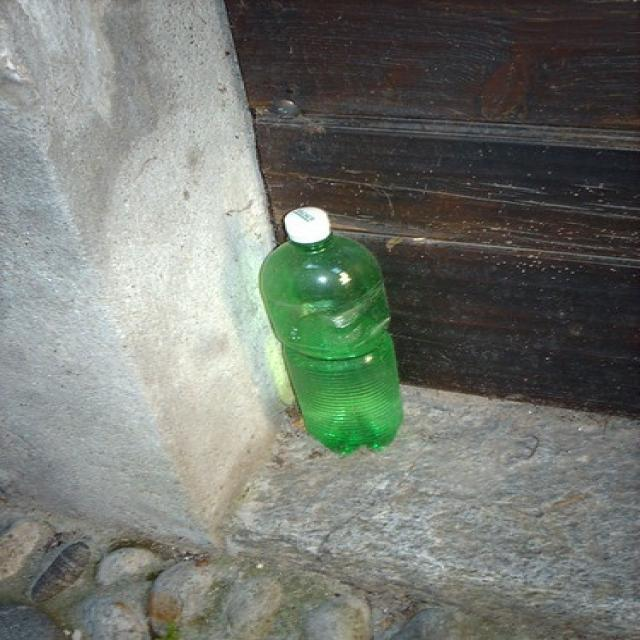plastic_bottle: (258, 206, 403, 454)
